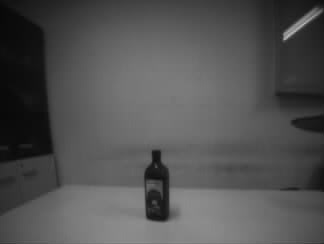Bottle: (144, 150, 170, 222)
